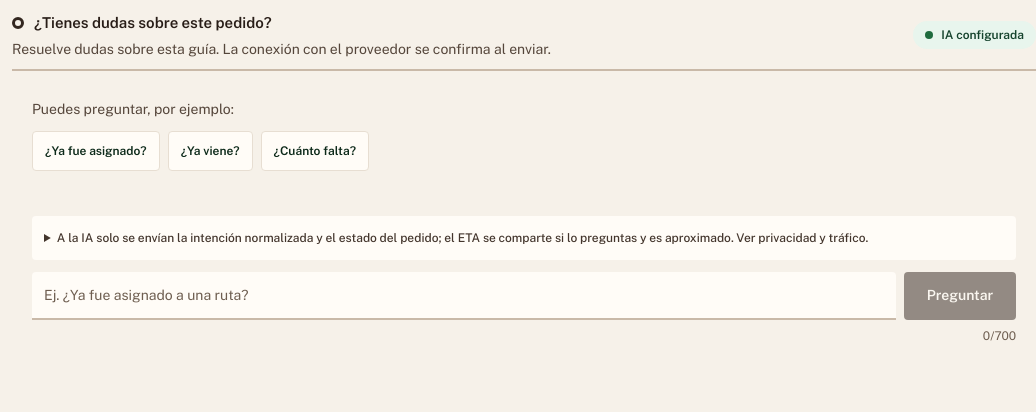
it: CustomerOrderChat › restores the failed question and retries it without duplicating conversation history
Type "¿Ya fue asignado?" into the field named "Escribe tu pregunta sobre el pedido" at coordinates (464, 296), box left=32, top=272, right=896, bottom=320
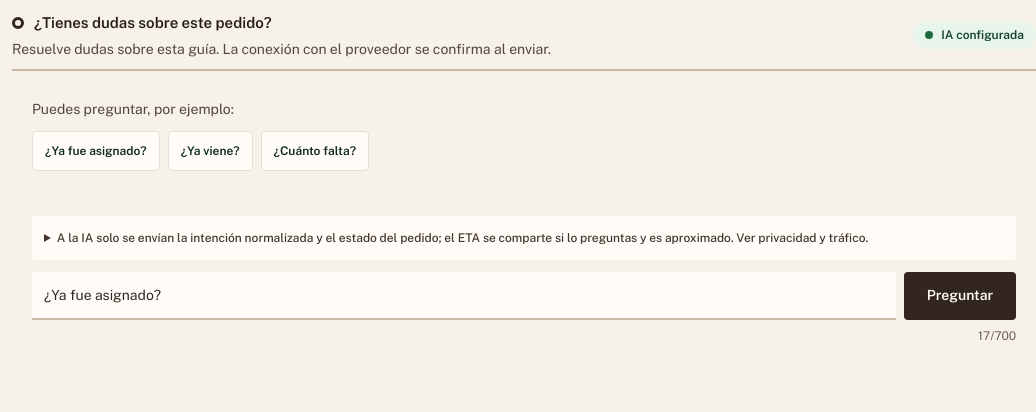
Click the button "Preguntar" at coordinates (960, 296), box left=904, top=272, right=1016, bottom=320
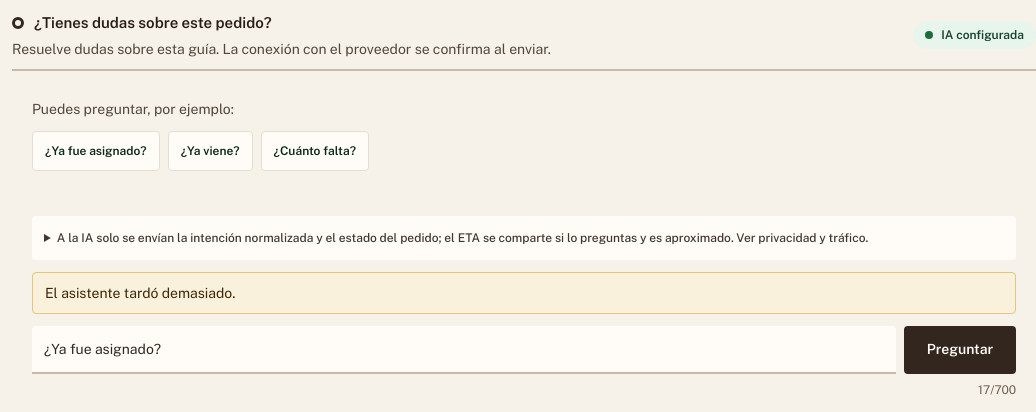
Now the message reads "El asistente tardó demasiado.", box left=45, top=284, right=235, bottom=300
Click the button "Preguntar" at coordinates (960, 350), box left=904, top=326, right=1016, bottom=374
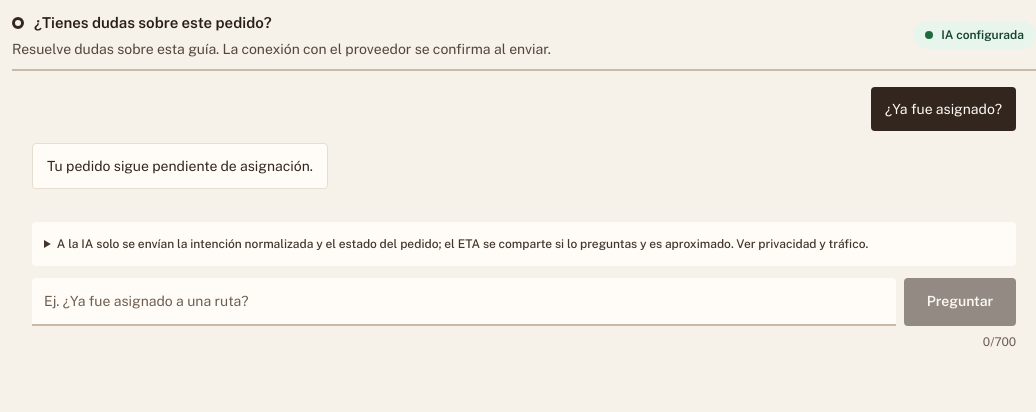
Now the text "Tu pedido sigue pendiente de asignación." is shown, box left=32, top=142, right=328, bottom=188
